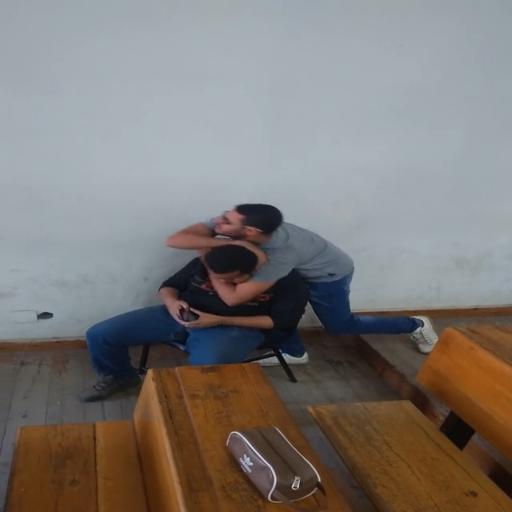violencia: (64, 172, 467, 428)
